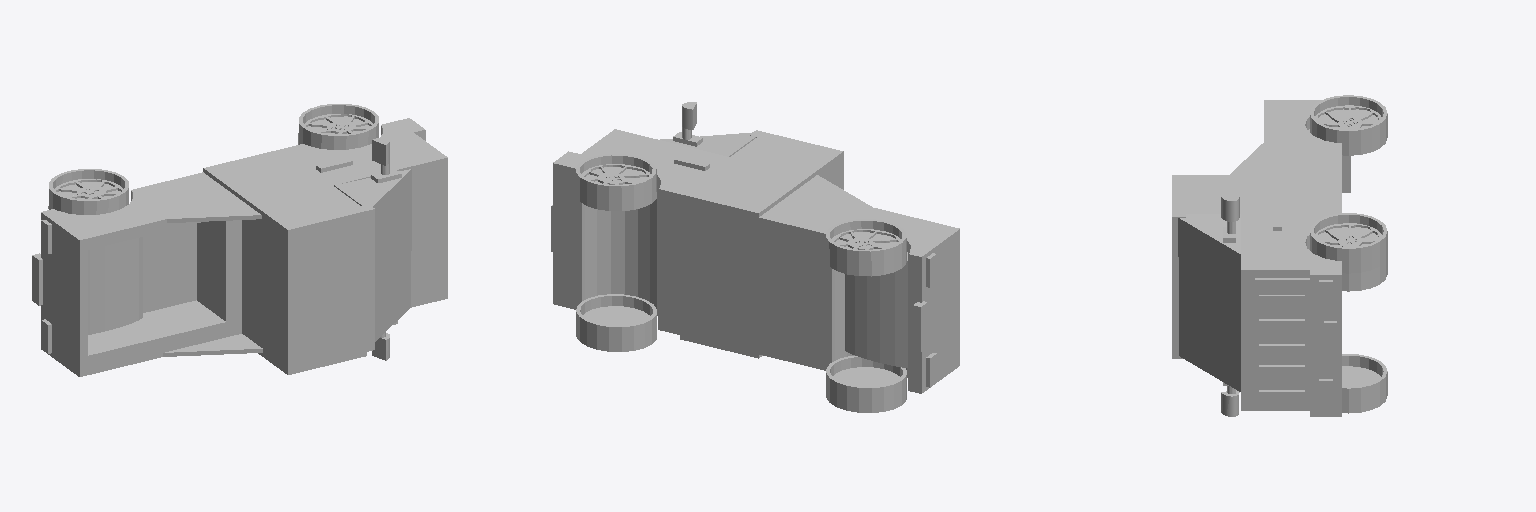
File: pickuptruck.obj
3 views of the same model, side by side, from view 1: azimuth 30°, elevation 25°; view 2: azimuth 150°, elevation 25°; view 3: azimuth 270°, elevation 25° (orthographic).
Parts seen in each view (by area): view 1: obj_0; view 2: obj_0; view 3: obj_0.
Boxes of the visible parts, x1,y1,x2,y2 form: obj_0: [32, 104, 447, 376]; obj_0: [551, 102, 959, 412]; obj_0: [1172, 95, 1387, 416].
Size of the model in its own units: 95 by 52 by 47.